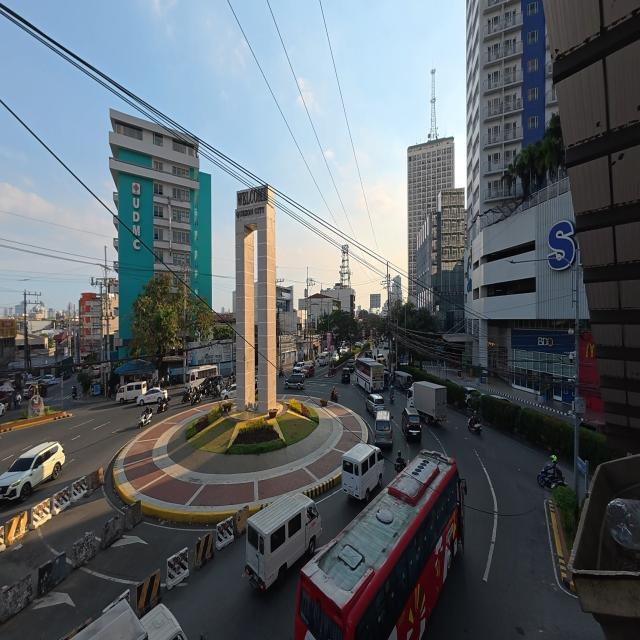bus: (295, 451, 465, 639), (356, 358, 384, 392), (187, 365, 218, 388)
car: (0, 442, 65, 501), (137, 388, 167, 405), (366, 394, 384, 417), (580, 420, 605, 434), (21, 381, 39, 400), (285, 373, 305, 389), (465, 387, 480, 405), (221, 384, 236, 400), (490, 394, 512, 403), (41, 375, 60, 385), (341, 367, 351, 383), (303, 365, 314, 377), (293, 362, 304, 373), (347, 359, 355, 372), (376, 354, 386, 364), (0, 402, 7, 416), (42, 375, 54, 383), (62, 371, 72, 380), (362, 351, 373, 358), (332, 352, 339, 362), (340, 347, 347, 355), (355, 342, 361, 347)
motorcycle: (538, 465, 566, 489), (139, 409, 152, 427), (468, 418, 481, 434), (158, 397, 170, 413), (191, 388, 202, 405), (395, 459, 407, 474), (181, 389, 192, 403), (331, 389, 338, 402), (72, 387, 77, 400), (279, 367, 284, 377), (390, 392, 394, 404)
trucks: (407, 382, 446, 422)
vans: (245, 494, 321, 590), (75, 600, 185, 639), (342, 443, 384, 501), (116, 381, 146, 403), (374, 411, 392, 446), (319, 352, 330, 366)
